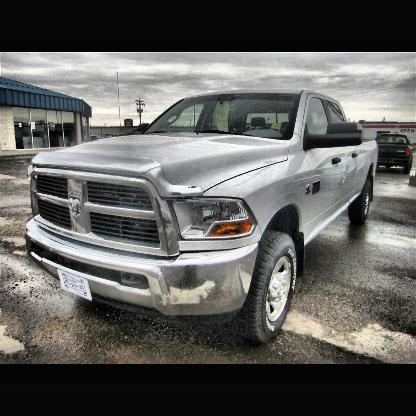Dodge Ram Pickup 3500 Crew Cab 2010: (25, 86, 393, 345)
